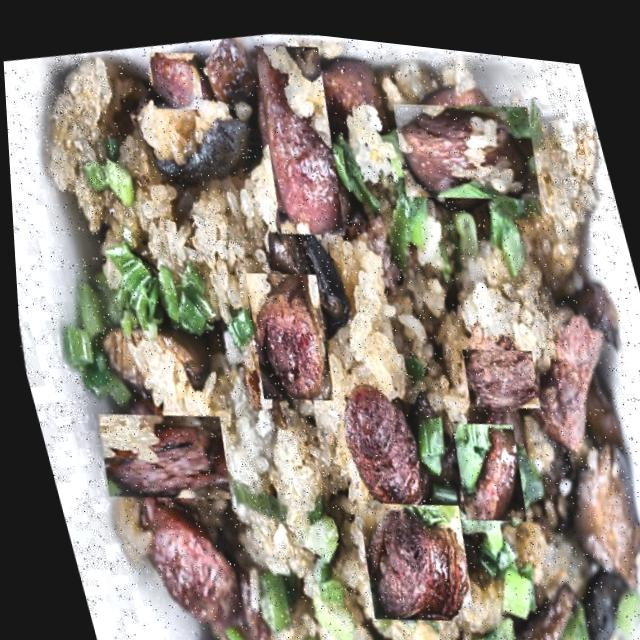Food: (229, 23, 364, 242), (104, 482, 288, 640), (385, 58, 543, 222), (309, 353, 445, 526), (336, 473, 482, 633), (86, 378, 229, 526), (225, 251, 345, 410), (433, 398, 533, 524), (452, 321, 540, 413), (139, 37, 210, 115)
